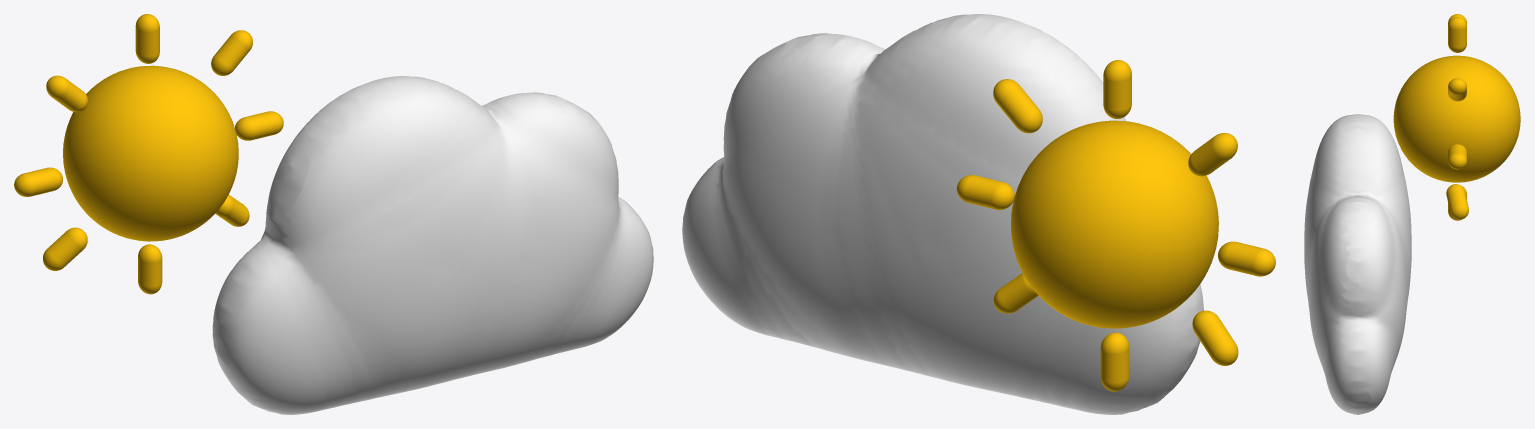
File: PartlyCloudy.glb
3 renders of one model, left to right at view 1: azimuth 30°, elevation 25°; view 2: azimuth 150°, elevation 25°; view 3: azimuth 270°, elevation 25°, orthographic. The views are drawn at different scales.
Parts seen in each view (by area): view 1: Object_37, Object_49, Object_65, Object_53, Object_59, Object_57, Object_51, Object_63, Object_61, Object_55; view 2: Object_37, Object_49, Object_53, Object_65, Object_57, Object_59, Object_63, Object_51, Object_61, Object_55; view 3: Object_37, Object_49, Object_55, Object_59, Object_51, Object_53.
Part boxes in pixels (x1,y1,x2,y2): Object_37: (212, 76, 653, 414); Object_49: (63, 65, 238, 241); Object_65: (43, 227, 87, 270); Object_53: (211, 30, 252, 75); Object_59: (135, 14, 159, 63); Object_57: (138, 244, 162, 294); Object_51: (235, 111, 283, 140); Object_63: (14, 167, 62, 196); Object_61: (46, 75, 88, 112); Object_55: (215, 195, 249, 226); Object_37: (682, 14, 1203, 414); Object_49: (1011, 120, 1218, 328); Object_53: (993, 79, 1042, 133); Object_65: (1192, 310, 1238, 365); Object_57: (1100, 332, 1129, 391); Object_59: (1103, 60, 1131, 118); Object_63: (1218, 241, 1275, 276); Object_51: (956, 175, 1014, 209); Object_61: (1188, 133, 1237, 176); Object_55: (993, 273, 1038, 313); Object_37: (1304, 114, 1411, 414); Object_49: (1393, 55, 1520, 182); Object_55: (1446, 184, 1468, 219); Object_59: (1448, 17, 1466, 52); Object_51: (1448, 144, 1466, 169); Object_53: (1448, 78, 1466, 101).
Bounding box in the file's own units: 0.4082 × 0.2531 × 0.1879.
9 materials, 9 textured.
